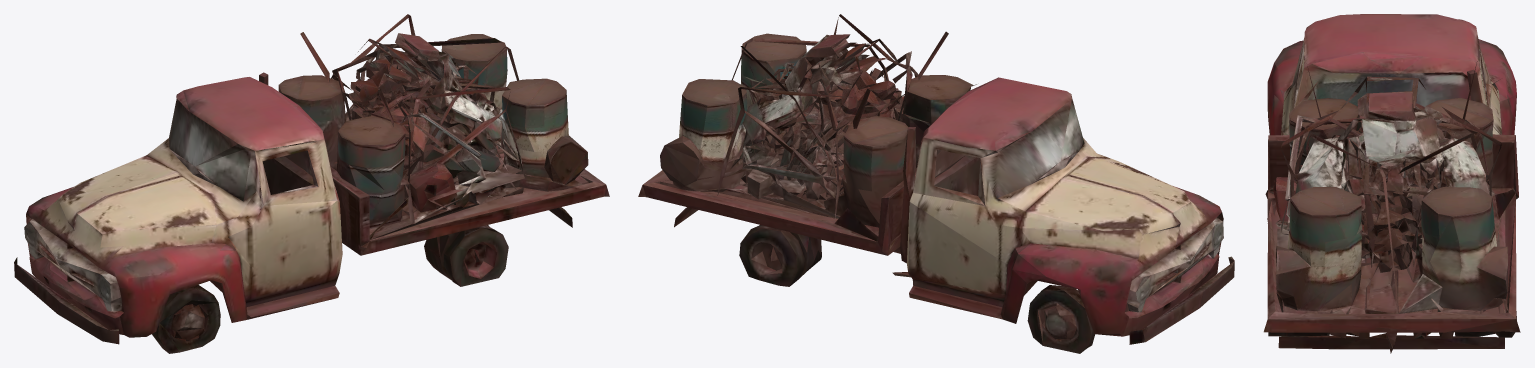
File: pickup.glb
The picture shows the model from 3 angles, left to right: view 1: azimuth 30°, elevation 25°; view 2: azimuth 150°, elevation 25°; view 3: azimuth 270°, elevation 25°; orthographic projection. The views are drawn at different scales.
Size of the model in its own units: 1.9 by 0.751 by 0.7705.
1 material, 1 textured.
